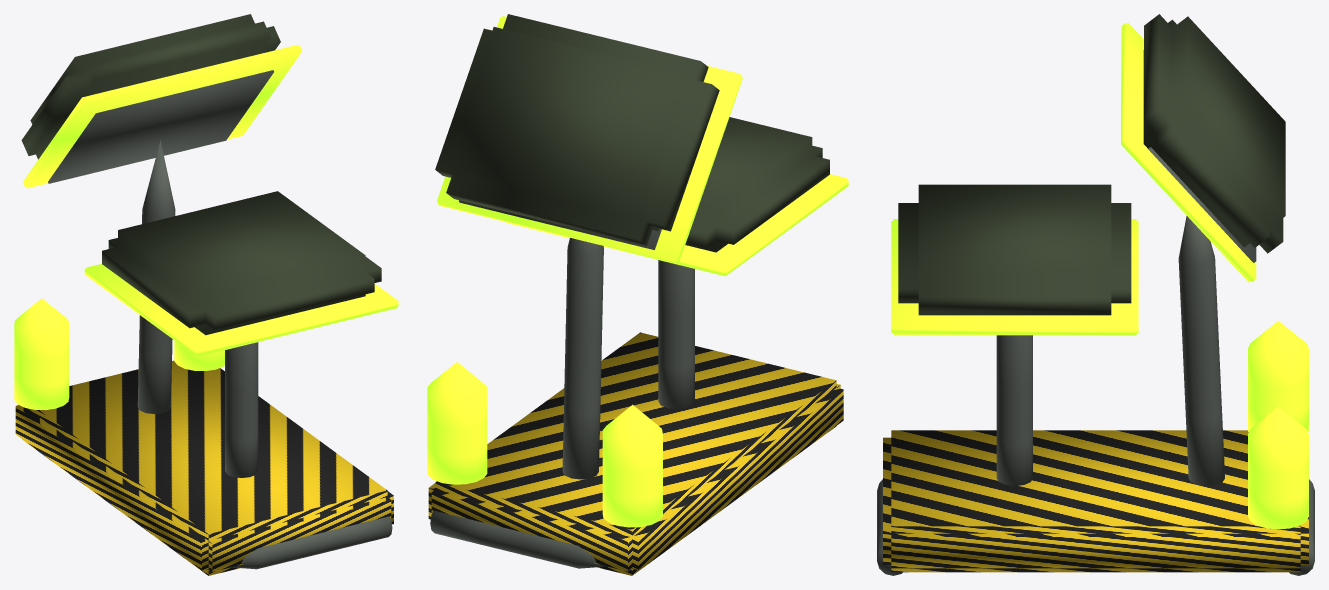
The model's file is ToxicBench.glb.
The picture shows the model from 3 angles, left to right: view 1: azimuth 30°, elevation 25°; view 2: azimuth 150°, elevation 25°; view 3: azimuth 270°, elevation 25°; orthographic projection. The views are drawn at different scales.
Visible parts, largest first — view 1: ToxicBench, ToxicBench_Glow; view 2: ToxicBench, ToxicBench_Glow; view 3: ToxicBench, ToxicBench_Glow.
Boxes of the visible parts, x1,y1,x2,y2 form: ToxicBench: [15, 14, 393, 575]; ToxicBench_Glow: [14, 45, 398, 410]; ToxicBench: [428, 14, 843, 575]; ToxicBench_Glow: [427, 16, 848, 527]; ToxicBench: [877, 14, 1314, 575]; ToxicBench_Glow: [891, 23, 1308, 529].
Size of the model in its own units: 1.37 by 2.55 by 2.16.
Materials: 2 (1 with a texture image).
